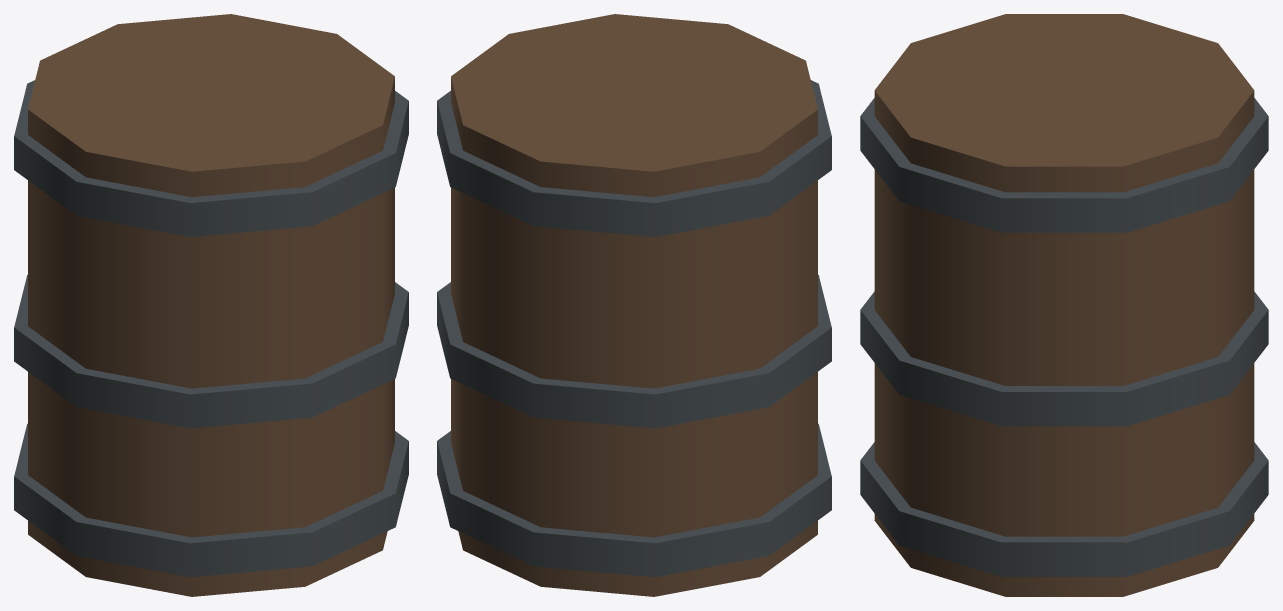
The model's file is barrel.glb.
3 views of the same model, side by side, from view 1: azimuth 30°, elevation 25°; view 2: azimuth 150°, elevation 25°; view 3: azimuth 270°, elevation 25° (orthographic).
Visible parts, largest first — view 1: barrel; view 2: barrel; view 3: barrel.
Boxes of the visible parts, x1,y1,x2,y2 form: barrel: (14,14,408,596); barrel: (437,14,831,596); barrel: (860,14,1268,596).
Size of the model in its own units: 0.8179 by 1 by 0.86.
